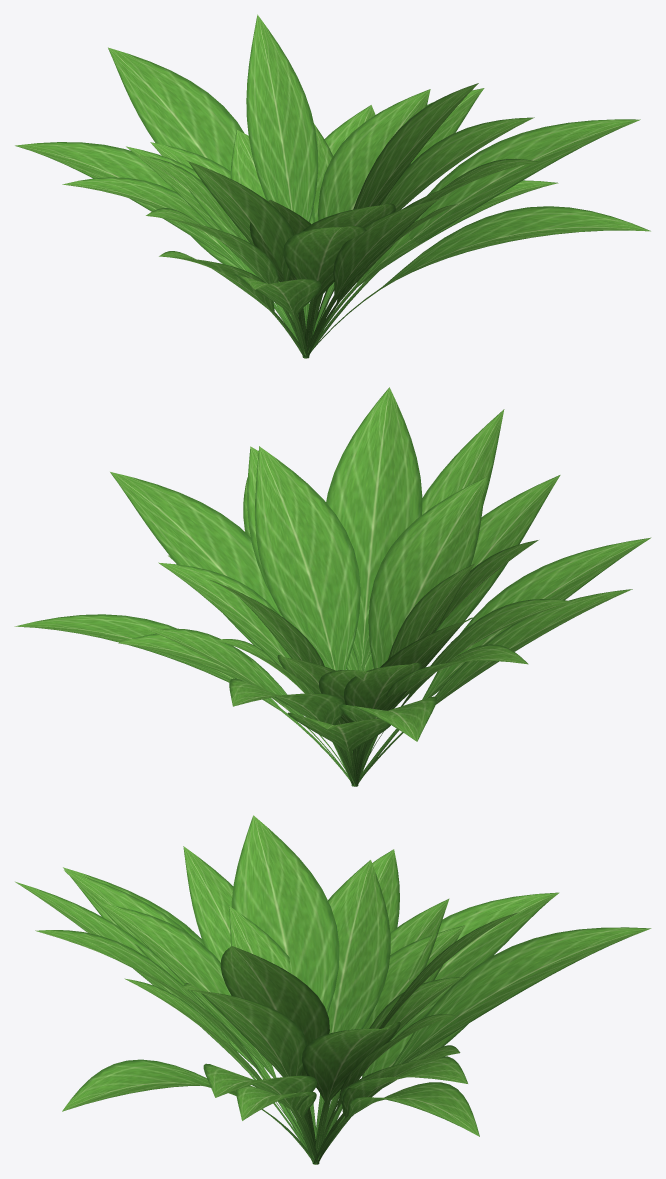
Rendered from sword.glb.
3 views of the same model, one above another, from view 1: azimuth 30°, elevation 25°; view 2: azimuth 150°, elevation 25°; view 3: azimuth 270°, elevation 25° (orthographic). The views are drawn at different scales.
Parts seen in each view (by area): view 1: SwaySword0, SwaySword1; view 2: SwaySword1, SwaySword0; view 3: SwaySword1, SwaySword0.
Boxes of the visible parts, x1,y1,x2,y2 form: SwaySword0: (62, 14, 650, 358); SwaySword1: (15, 47, 558, 358); SwaySword1: (149, 387, 560, 786); SwaySword0: (14, 446, 651, 786); SwaySword1: (15, 815, 651, 1164); SwaySword0: (62, 846, 518, 1164).
Bounding box in the file's own units: 2.15 × 1.12 × 2.25.
1 material, 1 textured.
